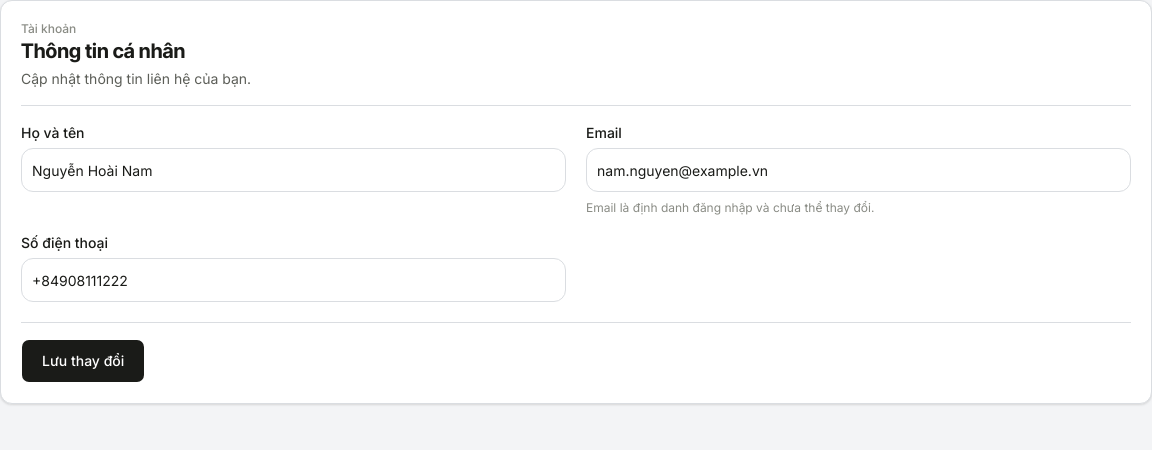
CustomerProfileForm › maps backend field errors to the matching input
Check: the field showing "Nguyễn Hoài Nam" is shown, box x1=21 y1=148 x2=566 y2=192
Click the button "Lưu thay đổi" at x=83, y=361, box x1=21 y1=339 x2=145 y2=383
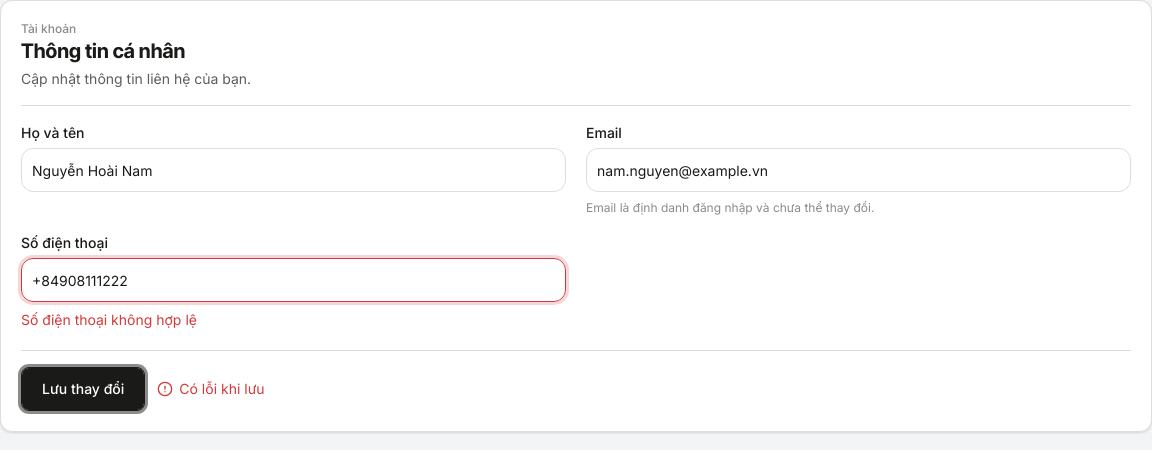
Check: the text "Số điện thoại không hợp lệ" is shown, box x1=21 y1=311 x2=197 y2=328
